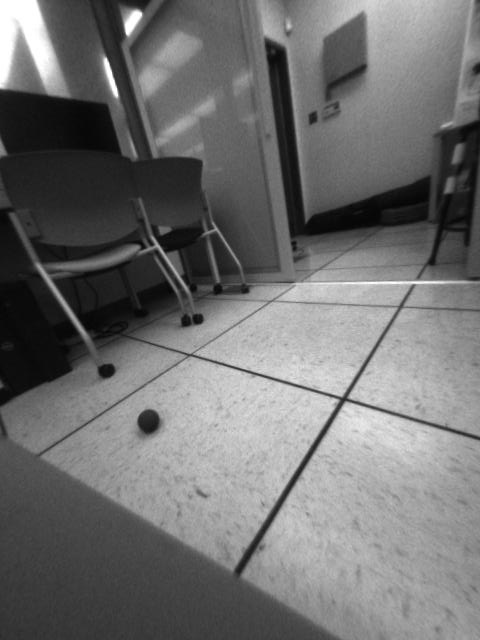dogtoy: (129, 398, 166, 441)
